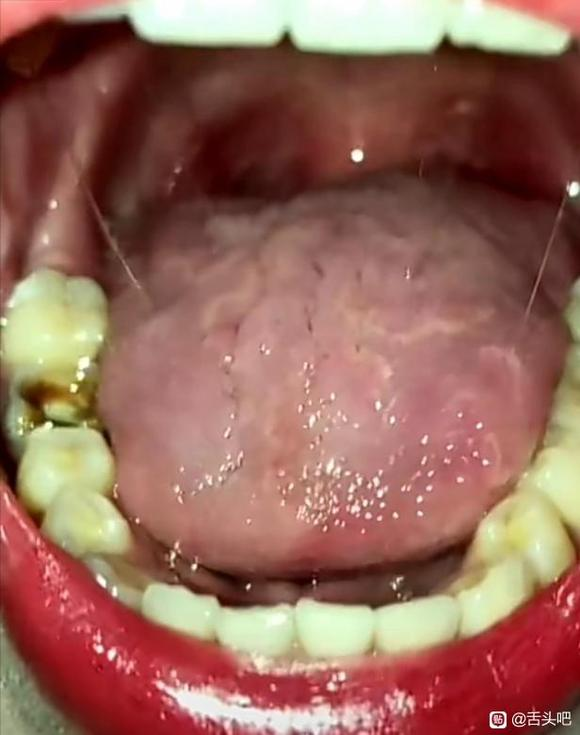baitaishe: (100, 172, 572, 578)
botaishe: (334, 278, 530, 488), (135, 183, 258, 287)
